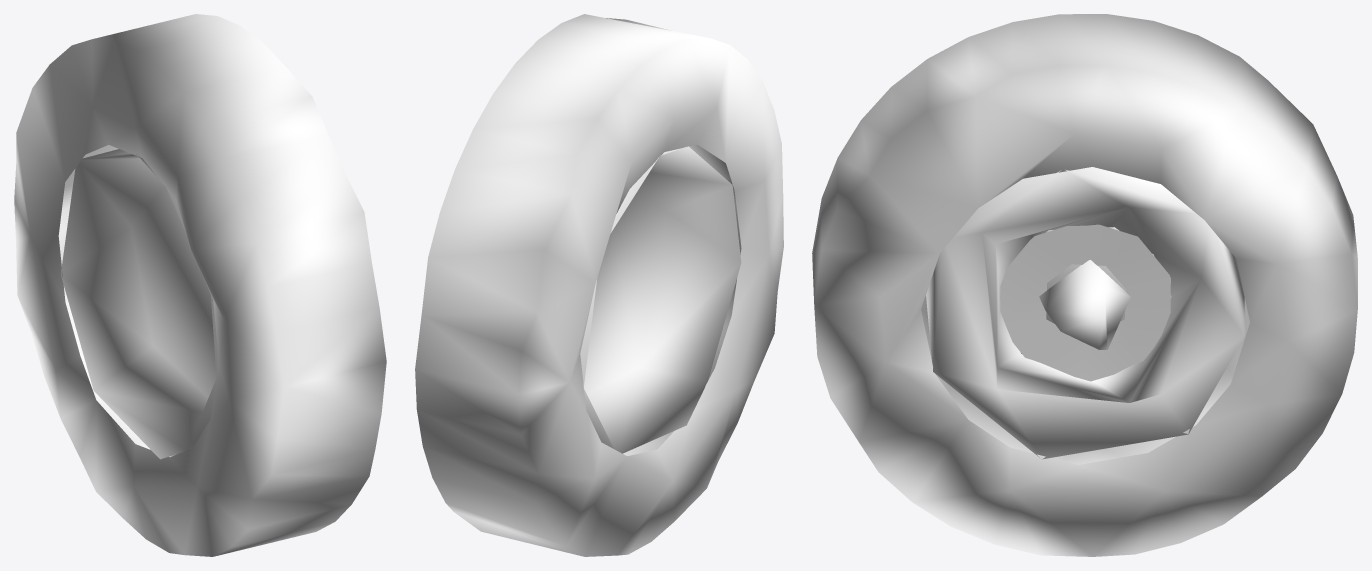
3 views of the same model, side by side, from view 1: azimuth 30°, elevation 25°; view 2: azimuth 150°, elevation 25°; view 3: azimuth 270°, elevation 25° (orthographic). The views are drawn at different scales.
Size of the model in its own units: 0.2604 by 0.7346 by 0.7367.
1 material, 1 textured.
